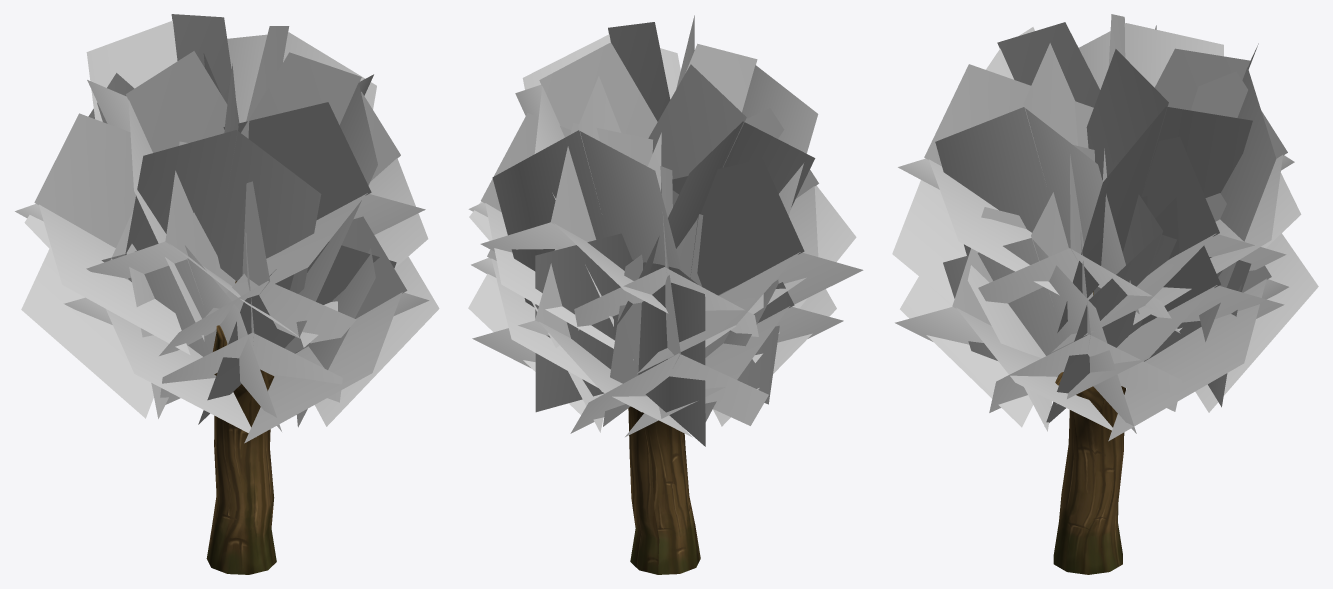
The model's file is tree-3.FBX.
The picture shows the model from 3 angles, left to right: view 1: azimuth 30°, elevation 25°; view 2: azimuth 150°, elevation 25°; view 3: azimuth 270°, elevation 25°; orthographic projection. The views are drawn at different scales.
Parts seen in each view (by area): view 1: Box001, Object001; view 2: Box001, Object001; view 3: Box001, Object001.
Part boxes in pixels (left/top/right/bottom): Box001: left=15, top=14, right=439, bottom=443; Object001: left=206, top=281, right=276, bottom=574; Box001: left=468, top=15, right=863, bottom=446; Object001: left=628, top=406, right=700, bottom=574; Box001: left=892, top=14, right=1318, bottom=441; Object001: left=1053, top=291, right=1125, bottom=574.
Size of the model in its own units: 1860 by 2563 by 1864.
